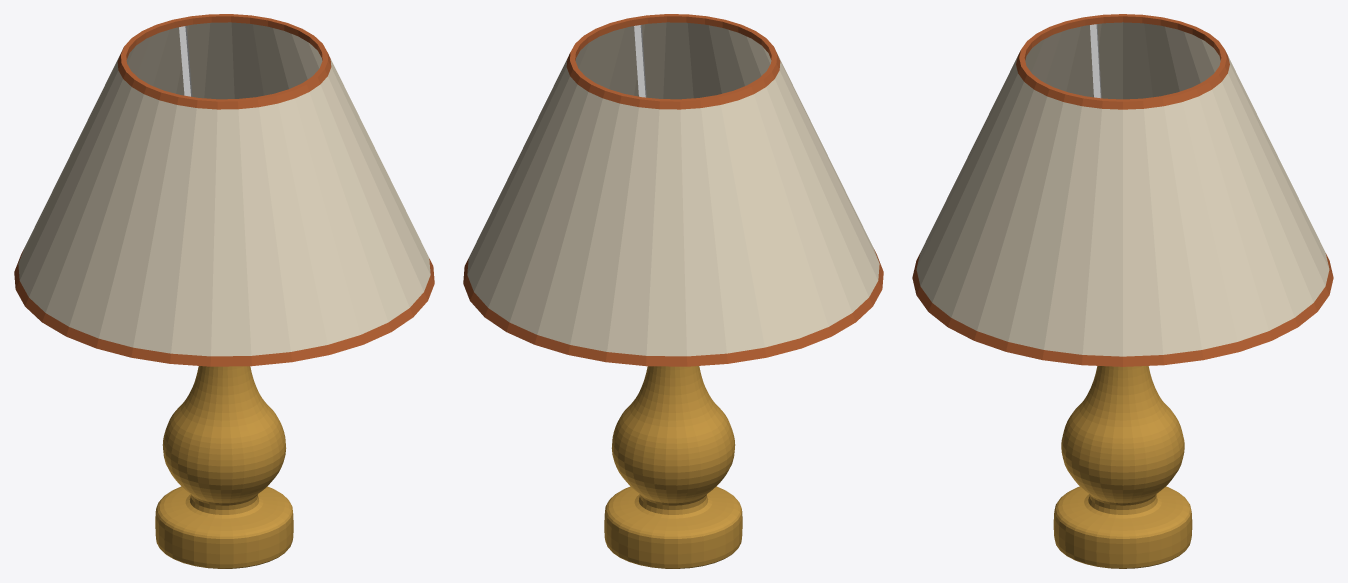
File: sweethome3d-scopia-little-lamp-54.glb
3 renders of one model, left to right at view 1: azimuth 30°, elevation 25°; view 2: azimuth 150°, elevation 25°; view 3: azimuth 270°, elevation 25°, orthographic.
Parts seen in each view (by area): view 1: lamp2_Circle.002_squares_multilamps.jpg, lamp2_sub_Circle.003, lamp2_Circle.002_border_multilamps.jpg, lamp2_Circle.002_whitesop; view 2: lamp2_Circle.002_squares_multilamps.jpg, lamp2_sub_Circle.003, lamp2_Circle.002_border_multilamps.jpg, lamp2_Circle.002_whitesop; view 3: lamp2_Circle.002_squares_multilamps.jpg, lamp2_sub_Circle.003, lamp2_Circle.002_border_multilamps.jpg, lamp2_Circle.002_whitesop.
Part boxes in pixels (left/top/right/bottom): lamp2_Circle.002_squares_multilamps.jpg: left=18, top=22, right=430, bottom=356; lamp2_sub_Circle.003: left=155, top=366, right=293, bottom=568; lamp2_Circle.002_border_multilamps.jpg: left=14, top=14, right=434, bottom=366; lamp2_Circle.002_whitesop: left=179, top=26, right=192, bottom=96; lamp2_Circle.002_squares_multilamps.jpg: left=467, top=22, right=879, bottom=356; lamp2_sub_Circle.003: left=604, top=366, right=742, bottom=568; lamp2_Circle.002_border_multilamps.jpg: left=463, top=14, right=883, bottom=366; lamp2_Circle.002_whitesop: left=634, top=25, right=646, bottom=97; lamp2_Circle.002_squares_multilamps.jpg: left=916, top=22, right=1329, bottom=356; lamp2_sub_Circle.003: left=1053, top=366, right=1192, bottom=568; lamp2_Circle.002_border_multilamps.jpg: left=912, top=14, right=1333, bottom=366; lamp2_Circle.002_whitesop: left=1090, top=24, right=1101, bottom=98.
Size of the model in its own units: 0.3315 by 0.419 by 0.3315.
